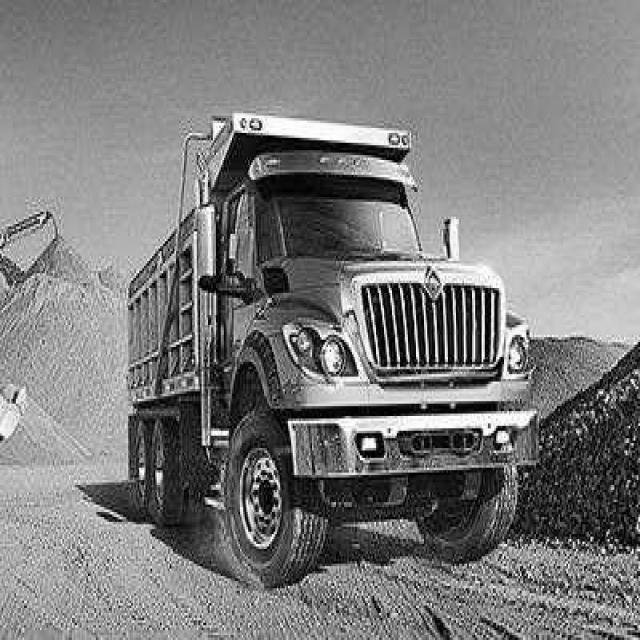Truck: (128, 114, 538, 586)
